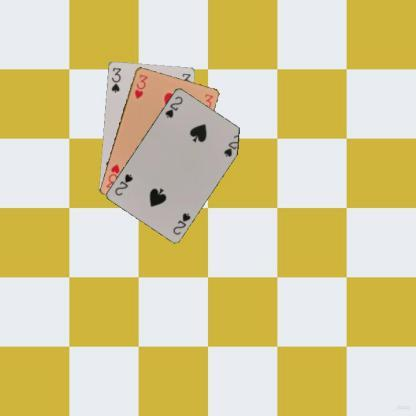2s: (162, 93, 184, 119), (170, 210, 192, 235)
3h: (132, 72, 148, 100)
3s: (108, 65, 122, 94)
